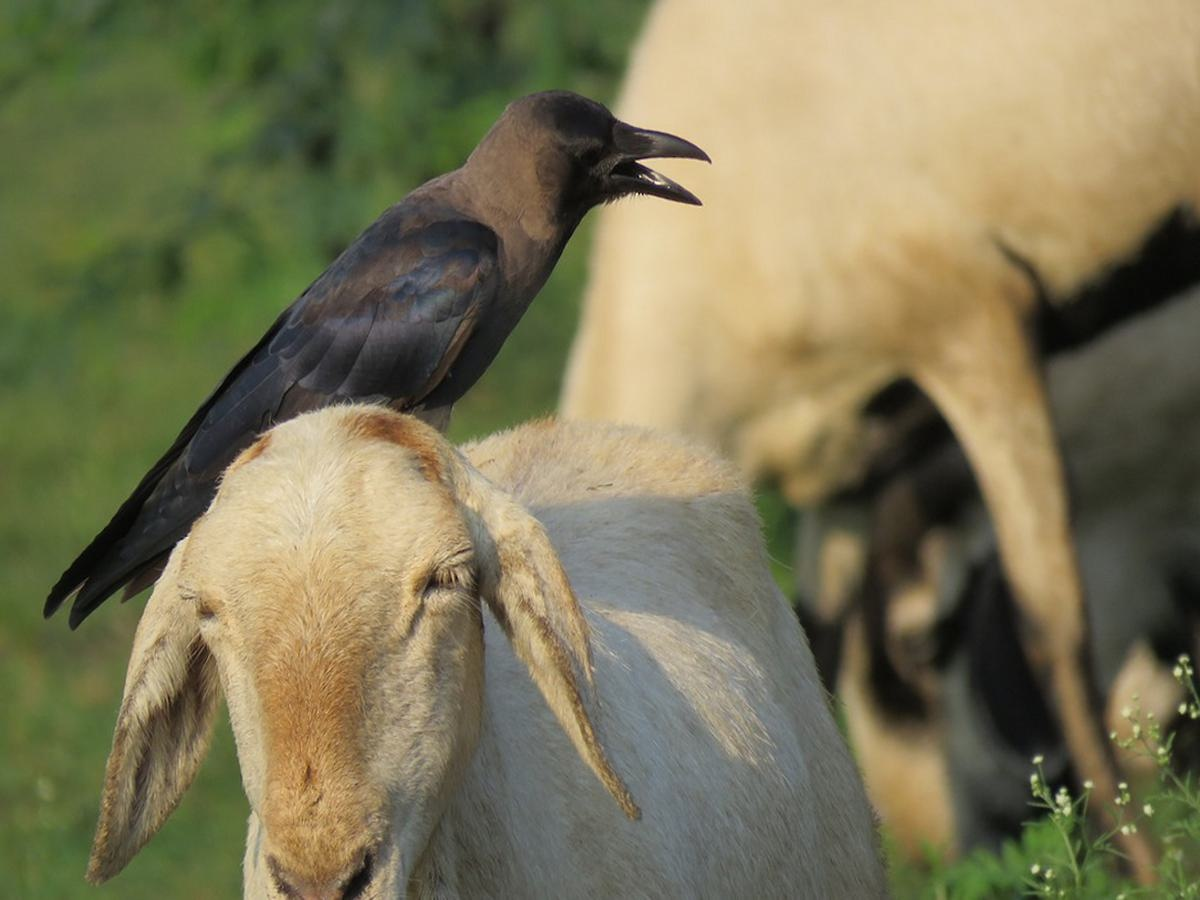crow: (55, 83, 722, 615)
